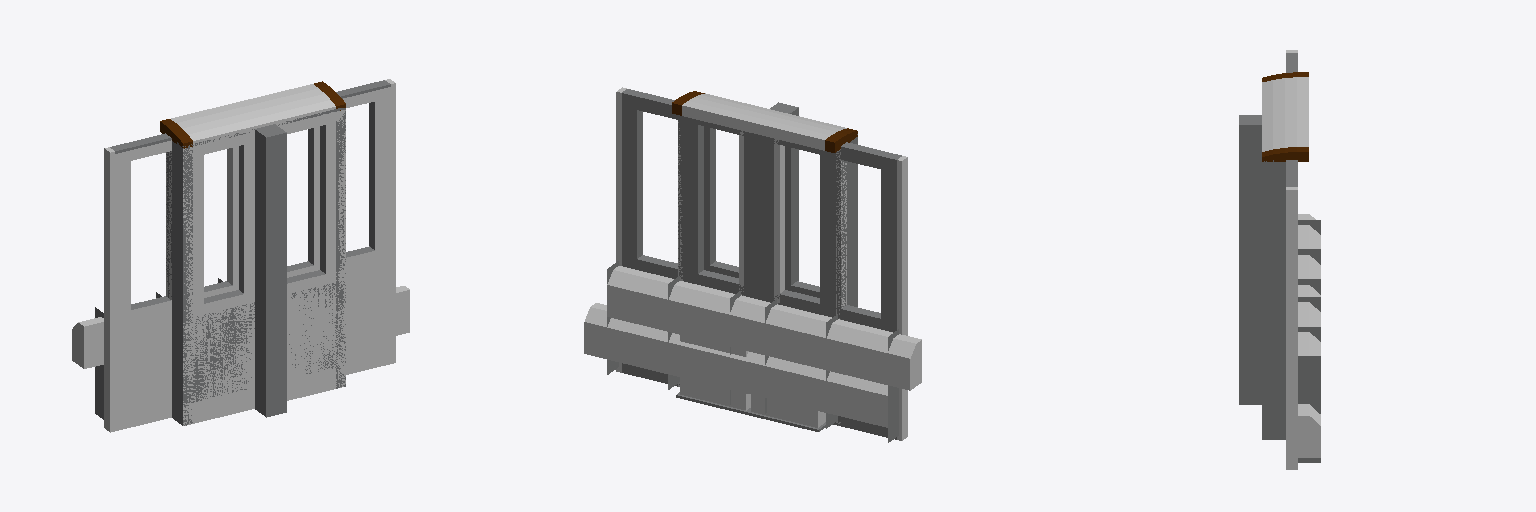
3 views of the same model, side by side, from view 1: azimuth 30°, elevation 25°; view 2: azimuth 150°, elevation 25°; view 3: azimuth 270°, elevation 25° (orthographic).
Parts seen in each view (by area): view 1: r_l, g_ld, l_l, g_rd, g_rse, g_ldg, g_rdg, g_lgn, g_lse, l_c, r_s, g_rg (+3 smaller); view 2: l_l, r_l, l_c, r_c, g_ld, g_rd, l_s, r_s; view 3: g_rd, g_lse, l_l, g_ld, l_c, r_c.
Boxes of the visible parts, x1=… form: r_l: x1=95, y1=133, x2=409, y2=432; g_ld: x1=160, y1=101, x2=264, y2=425; l_l: x1=84, y1=79, x2=395, y2=374; g_rd: x1=242, y1=81, x2=345, y2=400; g_rse: x1=255, y1=127, x2=276, y2=417; g_ldg: x1=177, y1=134, x2=254, y2=424; g_rdg: x1=284, y1=110, x2=345, y2=393; g_lgn: x1=177, y1=129, x2=254, y2=425; g_lse: x1=265, y1=124, x2=286, y2=414; l_c: x1=72, y1=126, x2=319, y2=368; r_s: x1=218, y1=146, x2=409, y2=333; g_rg: x1=287, y1=110, x2=345, y2=391; l_l: x1=607, y1=87, x2=918, y2=389; r_l: x1=585, y1=121, x2=907, y2=442; l_c: x1=668, y1=116, x2=921, y2=425; r_c: x1=584, y1=115, x2=846, y2=428; g_ld: x1=747, y1=111, x2=857, y2=431; g_rd: x1=672, y1=91, x2=774, y2=414; l_s: x1=730, y1=131, x2=920, y2=404; r_s: x1=585, y1=122, x2=784, y2=413; g_rd: x1=1262, y1=112, x2=1308, y2=439; g_lse: x1=1239, y1=120, x2=1261, y2=404; l_l: x1=1286, y1=160, x2=1320, y2=469; g_ld: x1=1262, y1=72, x2=1308, y2=116; l_c: x1=1298, y1=214, x2=1320, y2=341; r_c: x1=1298, y1=249, x2=1320, y2=457.
Size of the model in its own units: 2 by 1.69 by 0.4375.
Materials: 4 (2 with a texture image).